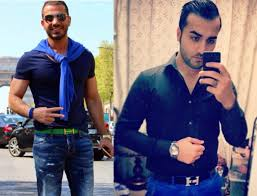middle_eastern_male: (41, 1, 69, 37)
